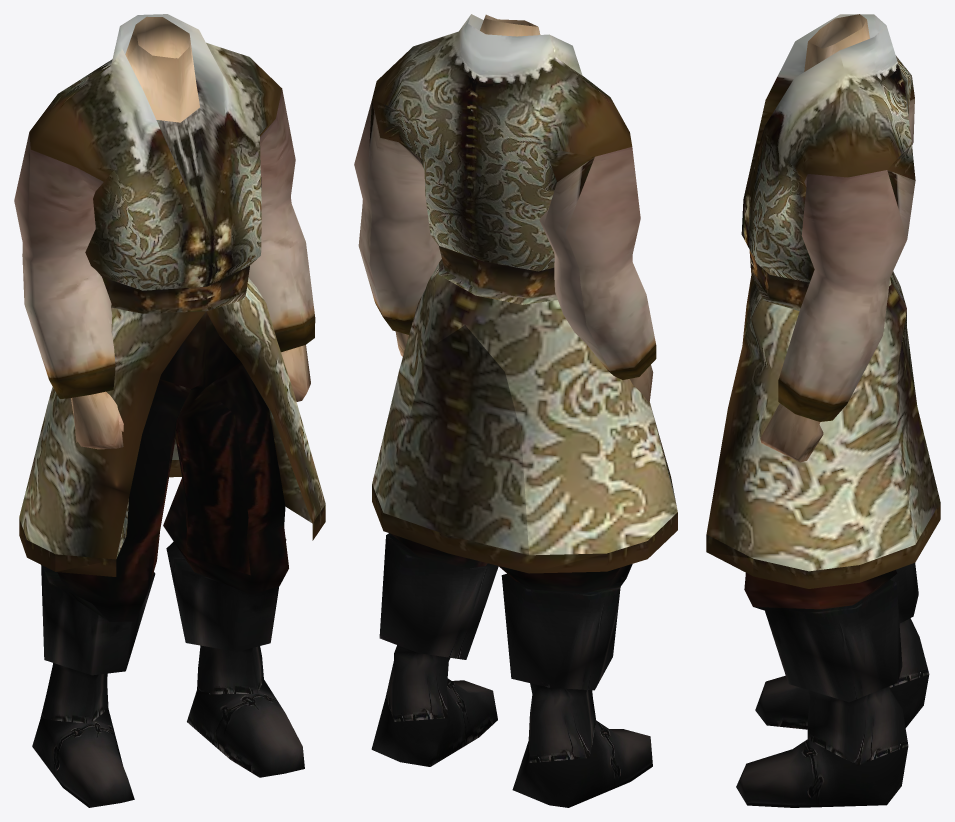
The model's file is WG_ARMOR_ELEGANT_CITIZEN_04.glb.
3 renders of one model, left to right at view 1: azimuth 30°, elevation 25°; view 2: azimuth 150°, elevation 25°; view 3: azimuth 270°, elevation 25°, orthographic. The views are drawn at different scales.
Parts seen in each view (by area): view 1: WG_ARMOR_ELEGANT_CITIZEN_04; view 2: WG_ARMOR_ELEGANT_CITIZEN_04; view 3: WG_ARMOR_ELEGANT_CITIZEN_04.
Part boxes in pixels (x1,y1,x2,y2): WG_ARMOR_ELEGANT_CITIZEN_04: (14,14,325,807); WG_ARMOR_ELEGANT_CITIZEN_04: (354,14,677,807); WG_ARMOR_ELEGANT_CITIZEN_04: (706,14,940,807).
Size of the model in its own units: 0.651 by 1.69 by 0.4847.
Materials: 3 (3 with a texture image).
